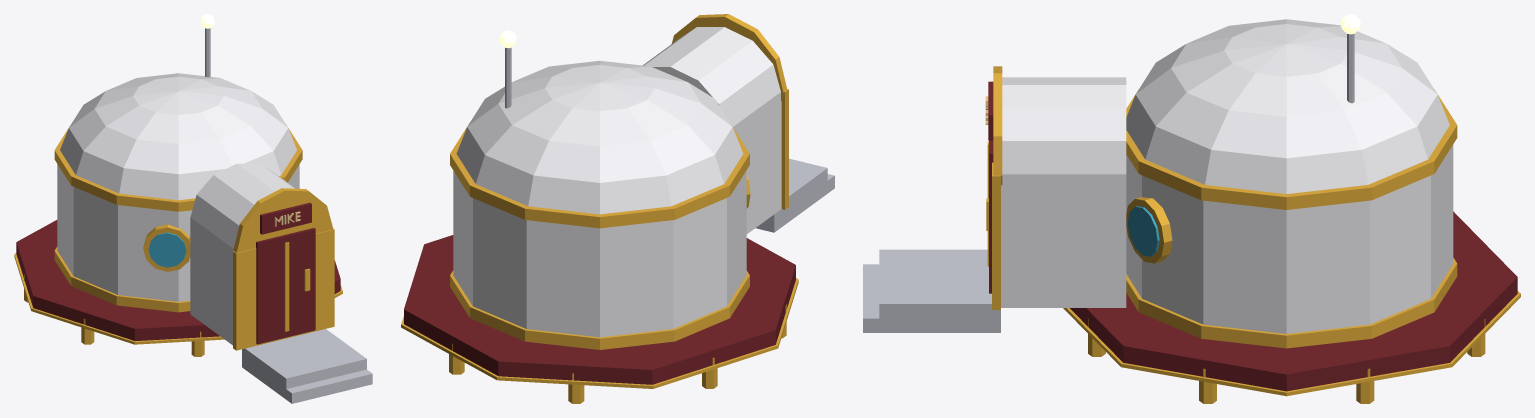
The model's file is casa-do-mike-n1.glb.
The picture shows the model from 3 angles, left to right: view 1: azimuth 30°, elevation 25°; view 2: azimuth 150°, elevation 25°; view 3: azimuth 270°, elevation 25°; orthographic projection. The views are drawn at different scales.
Parts seen in each view (by area): view 1: casa-do-mike-n1; view 2: casa-do-mike-n1; view 3: casa-do-mike-n1.
Part boxes in pixels (bbox=[...]): casa-do-mike-n1: bbox=[14, 14, 372, 403]; casa-do-mike-n1: bbox=[401, 14, 834, 403]; casa-do-mike-n1: bbox=[863, 14, 1520, 403].
Bounding box in the file's own units: 10.95 × 8.79 × 15.38.
